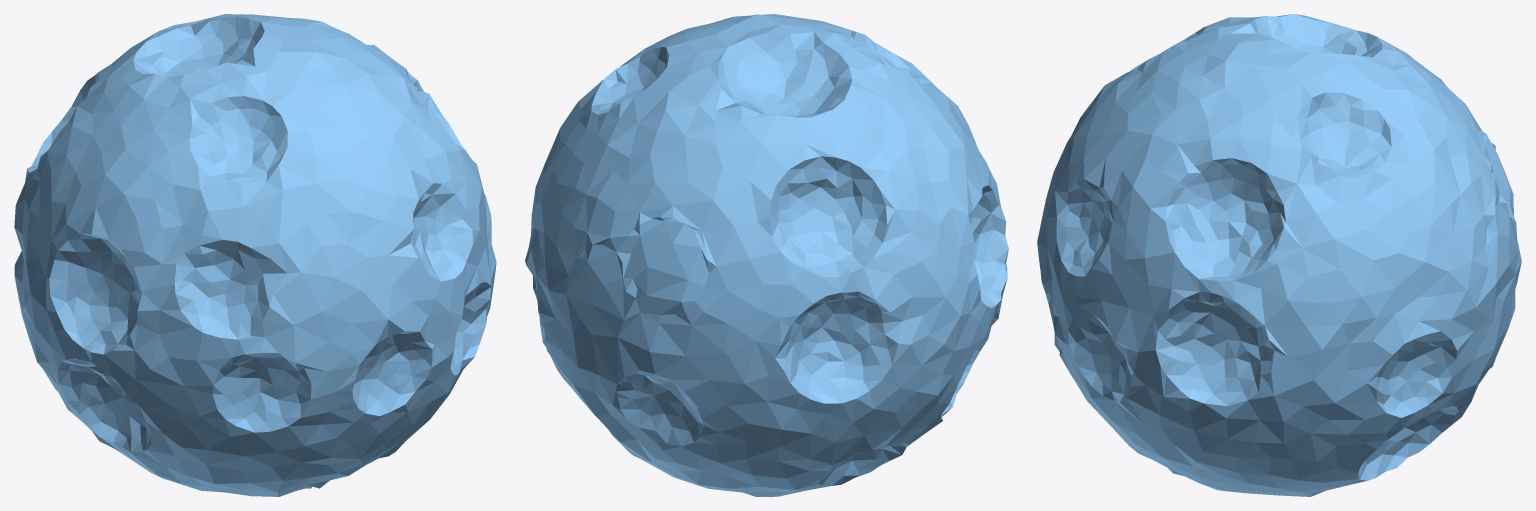
Rendered from Planet_2.glb.
3 renders of one model, left to right at view 1: azimuth 30°, elevation 25°; view 2: azimuth 150°, elevation 25°; view 3: azimuth 270°, elevation 25°, orthographic.
Parts seen in each view (by area): view 1: Planet_2; view 2: Planet_2; view 3: Planet_2.
Part boxes in pixels (x1,y1,x2,y2): Planet_2: (14,14,496,496); Planet_2: (525,14,1008,496); Planet_2: (1037,14,1521,496).
Size of the model in its own units: 20.09 by 20.01 by 20.17.
Materials: 1 (1 with a texture image).
